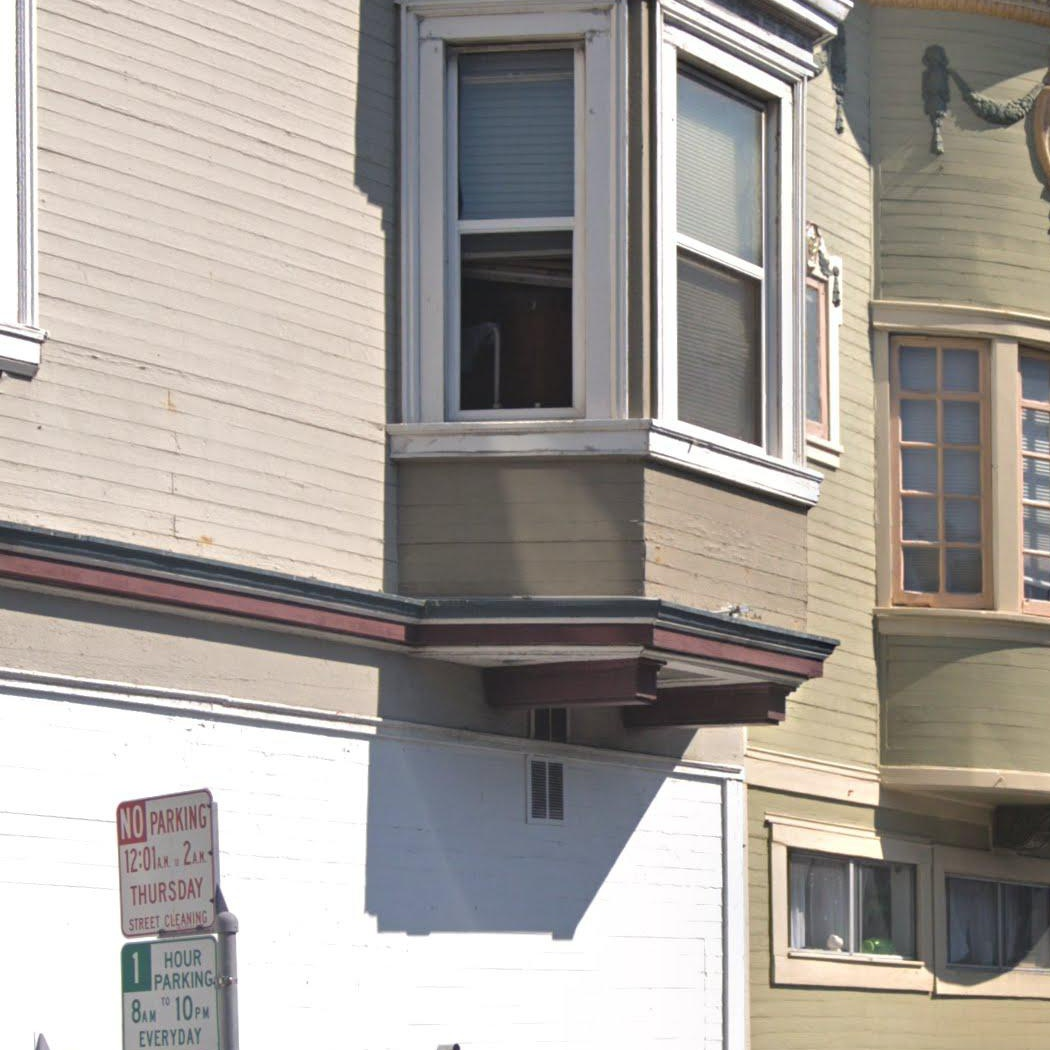1 Hour Parking: (118, 933, 226, 1050)
No Parking: (113, 787, 223, 940)
